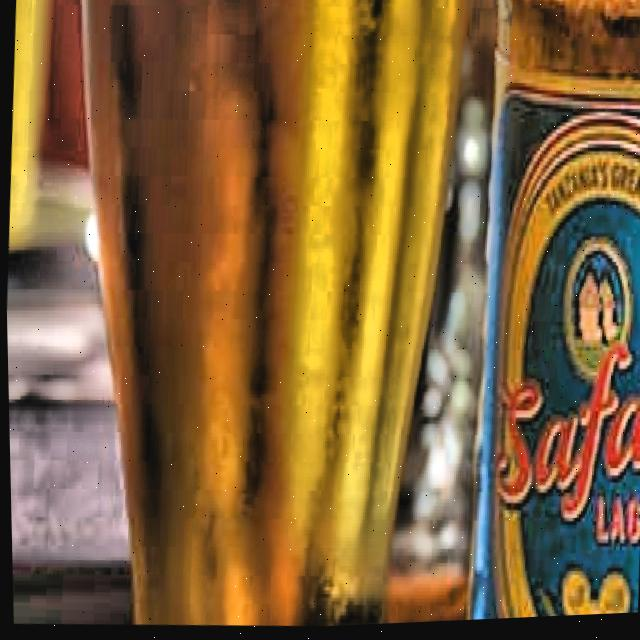glass: (80, 0, 463, 629), (464, 0, 640, 624)
